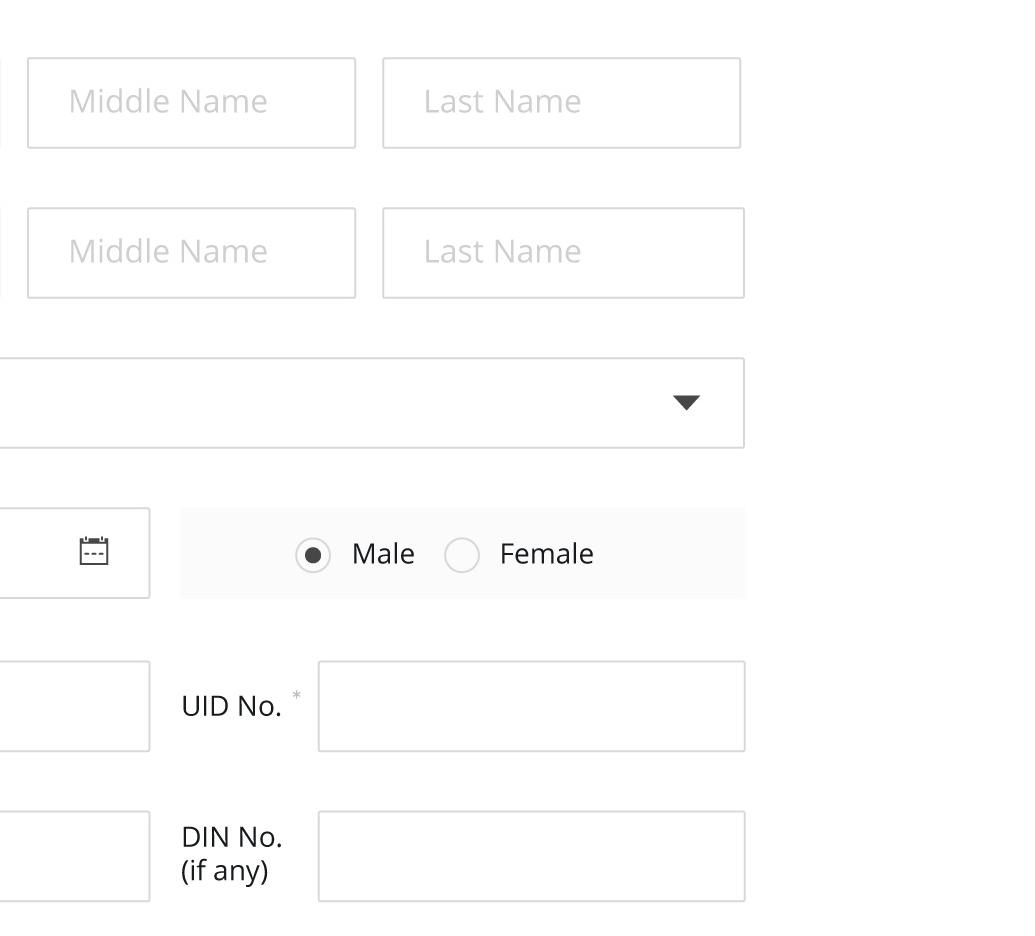field: (178, 810, 748, 908), (174, 659, 744, 754), (376, 205, 751, 301), (378, 54, 744, 152), (25, 54, 362, 152), (25, 205, 358, 303)
